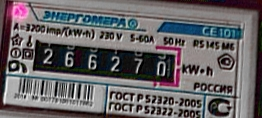0: (154, 59, 168, 77)
2: (40, 46, 54, 65), (108, 53, 121, 72)
6: (85, 52, 99, 71), (63, 49, 76, 68)
7: (131, 56, 144, 75)
screen: (21, 29, 188, 94)
